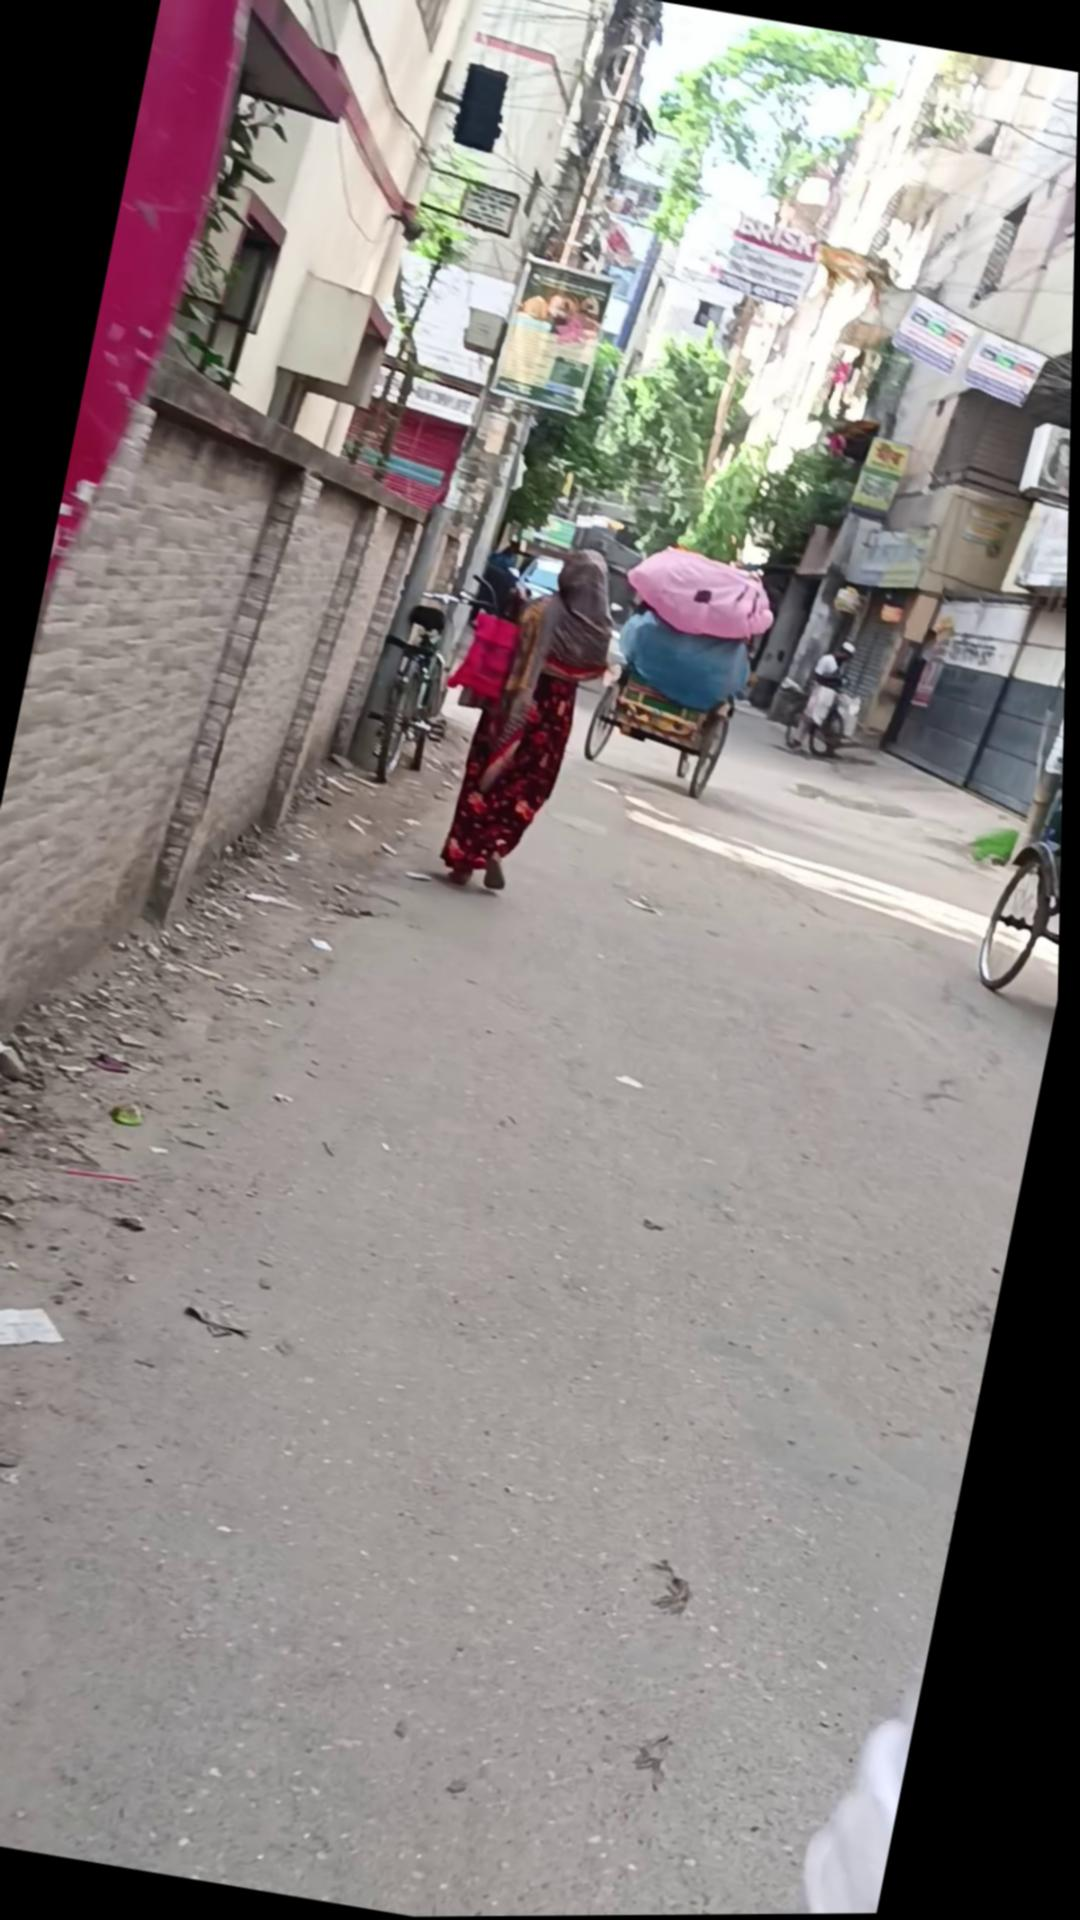Light-pole: (779, 666, 874, 765)
Muddy road: (434, 531, 642, 906), (793, 634, 866, 760)
Obstacle: (343, 0, 665, 799)
Pothole: (579, 564, 774, 807)
Potted-plant: (0, 570, 669, 1920)
Stuck-water: (488, 252, 618, 421)
Tree: (0, 324, 464, 1133)
